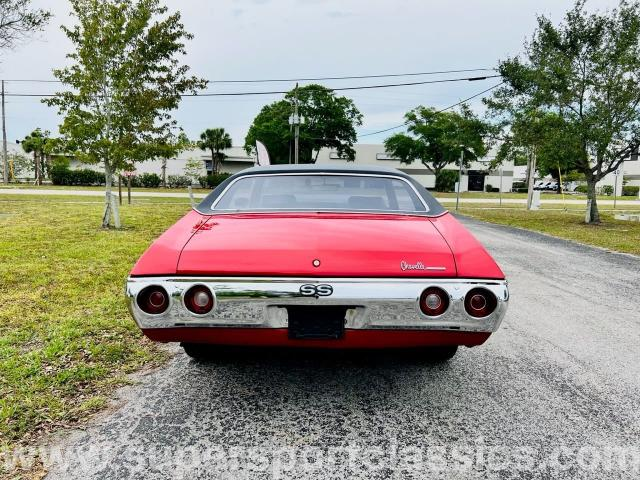chevelle-1972: (126, 164, 510, 361)
